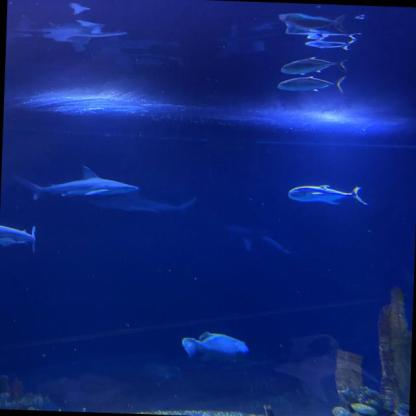fish: (182, 330, 250, 366), (270, 10, 351, 36), (286, 181, 370, 206), (273, 70, 348, 94), (278, 55, 351, 78), (302, 35, 360, 52)
shark: (11, 163, 140, 204), (74, 192, 196, 214), (226, 223, 302, 254), (0, 218, 38, 255)
